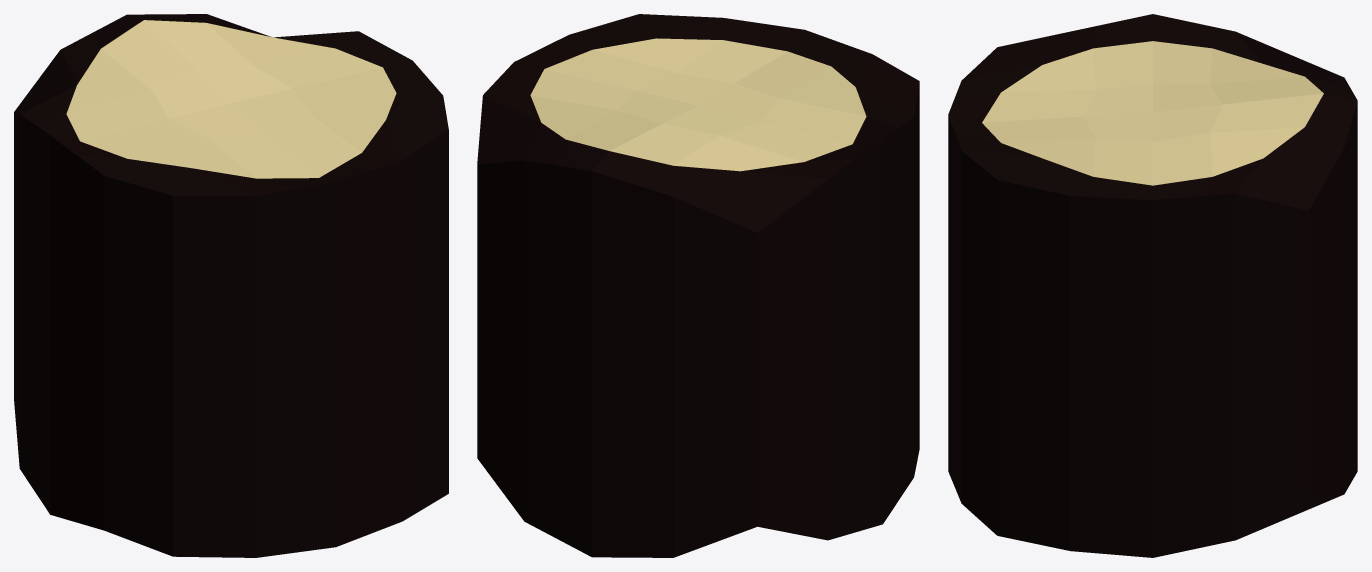
The model's file is log.fbx.
The picture shows the model from 3 angles, left to right: view 1: azimuth 30°, elevation 25°; view 2: azimuth 150°, elevation 25°; view 3: azimuth 270°, elevation 25°; orthographic projection. The views are drawn at different scales.
Parts seen in each view (by area): view 1: Cube.001; view 2: Cube.001; view 3: Cube.001.
Boxes of the visible parts, left/top/right/bottom form: Cube.001: left=14, top=14, right=448, bottom=557; Cube.001: left=477, top=14, right=919, bottom=557; Cube.001: left=948, top=14, right=1357, bottom=557.
Bounding box in the file's own units: 101 × 103 × 101.
